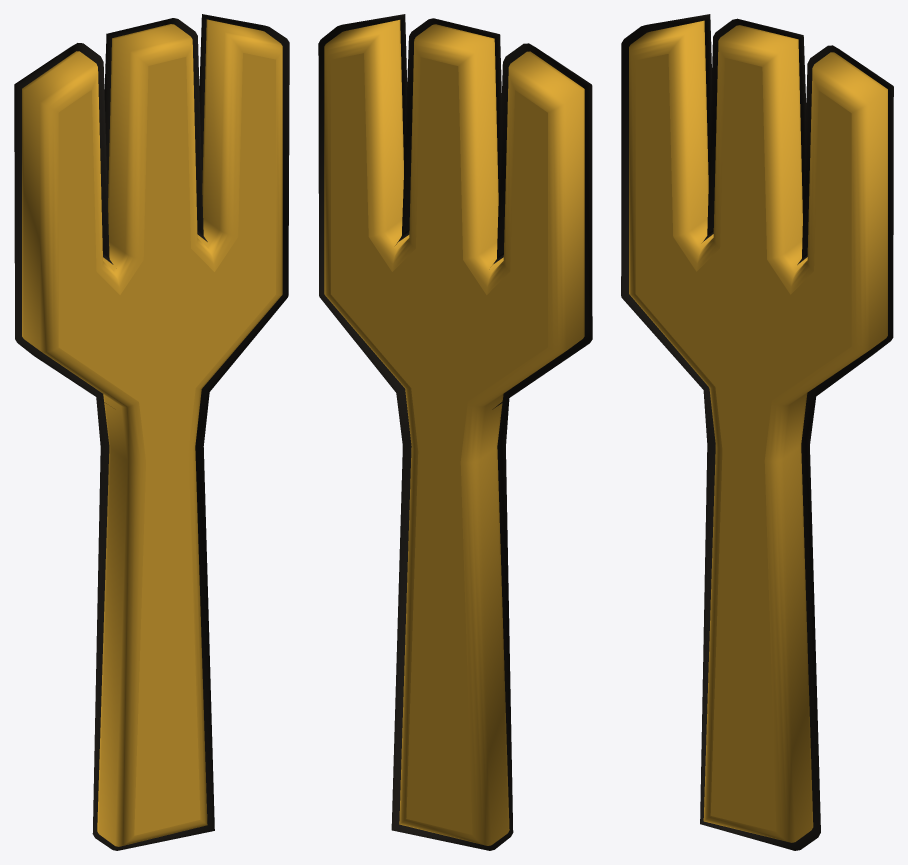
The model's file is fork.glb.
The picture shows the model from 3 angles, left to right: view 1: azimuth 30°, elevation 25°; view 2: azimuth 150°, elevation 25°; view 3: azimuth 330°, elevation 25°; orthographic projection.
Parts seen in each view (by area): view 1: Fork, Fork_outline; view 2: Fork, Fork_outline; view 3: Fork, Fork_outline.
Boxes of the visible parts, bbox=[...] form: Fork: bbox=[22, 19, 282, 846]; Fork_outline: bbox=[14, 14, 289, 850]; Fork: bbox=[324, 20, 584, 845]; Fork_outline: bbox=[318, 14, 592, 850]; Fork: bbox=[629, 20, 887, 842]; Fork_outline: bbox=[621, 14, 893, 850].
Size of the model in its own units: 1.07 by 3.24 by 0.2883.
